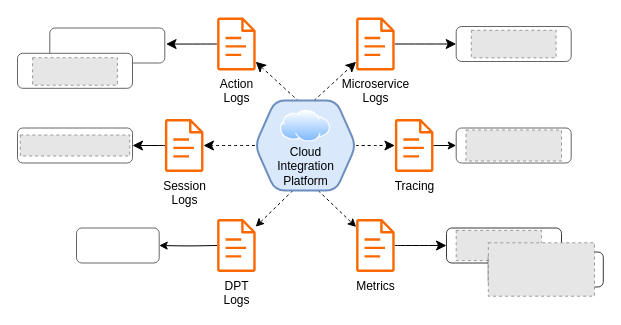
This 621x325 diagram has some shape labels left out. Grey dashed boxes stand in for pictures. The centre of each missing label's shape, as x and y in pixels:
CIP UI: (107,45)
DPT: (117,245)
